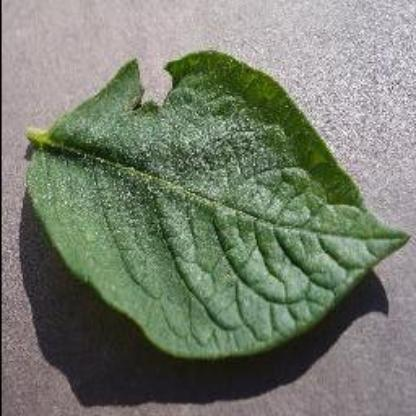Healthy-plant: (12, 37, 402, 389)
